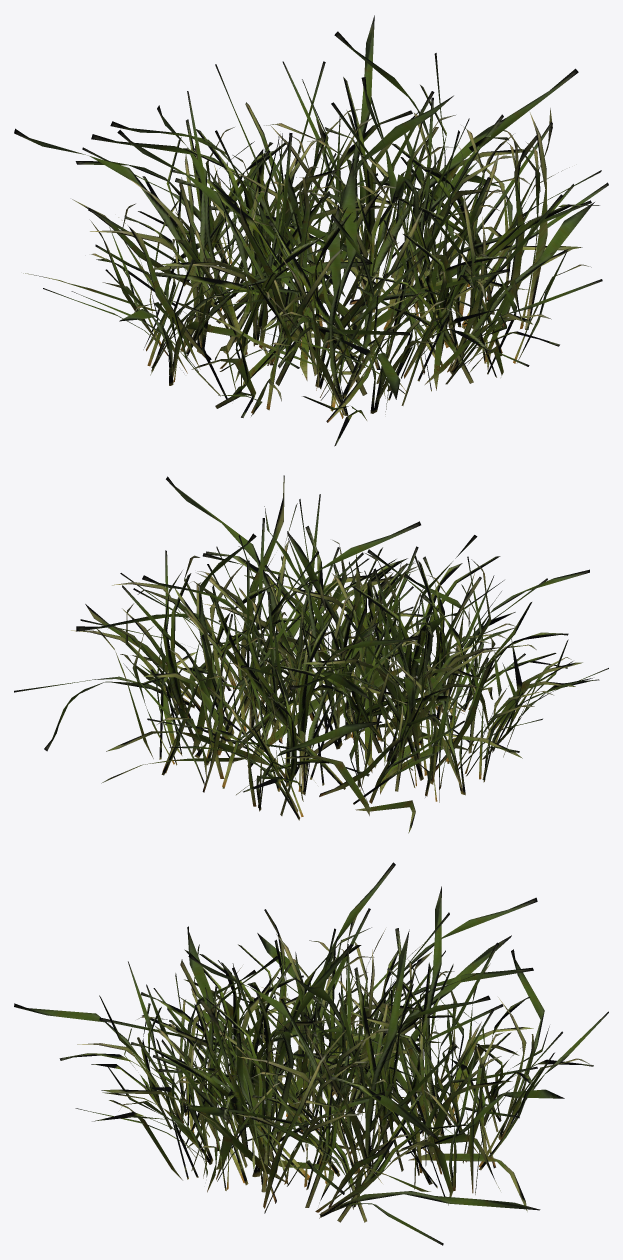
Rendered from grass_b.glb.
The picture shows the model from 3 angles, top to bottom: view 1: azimuth 30°, elevation 25°; view 2: azimuth 150°, elevation 25°; view 3: azimuth 270°, elevation 25°; orthographic projection. The views are drawn at different scales.
Parts seen in each view (by area): view 1: grass_medium_01_large_a_LOD0; view 2: grass_medium_01_large_a_LOD0; view 3: grass_medium_01_large_a_LOD0.
Part boxes in pixels (x1,y1,x2,y2): grass_medium_01_large_a_LOD0: (14, 15, 608, 446); grass_medium_01_large_a_LOD0: (14, 475, 608, 833); grass_medium_01_large_a_LOD0: (14, 862, 608, 1245).
Bounding box in the file's own units: 0.3175 × 0.1463 × 0.3271.
Materials: 1 (1 with a texture image).
